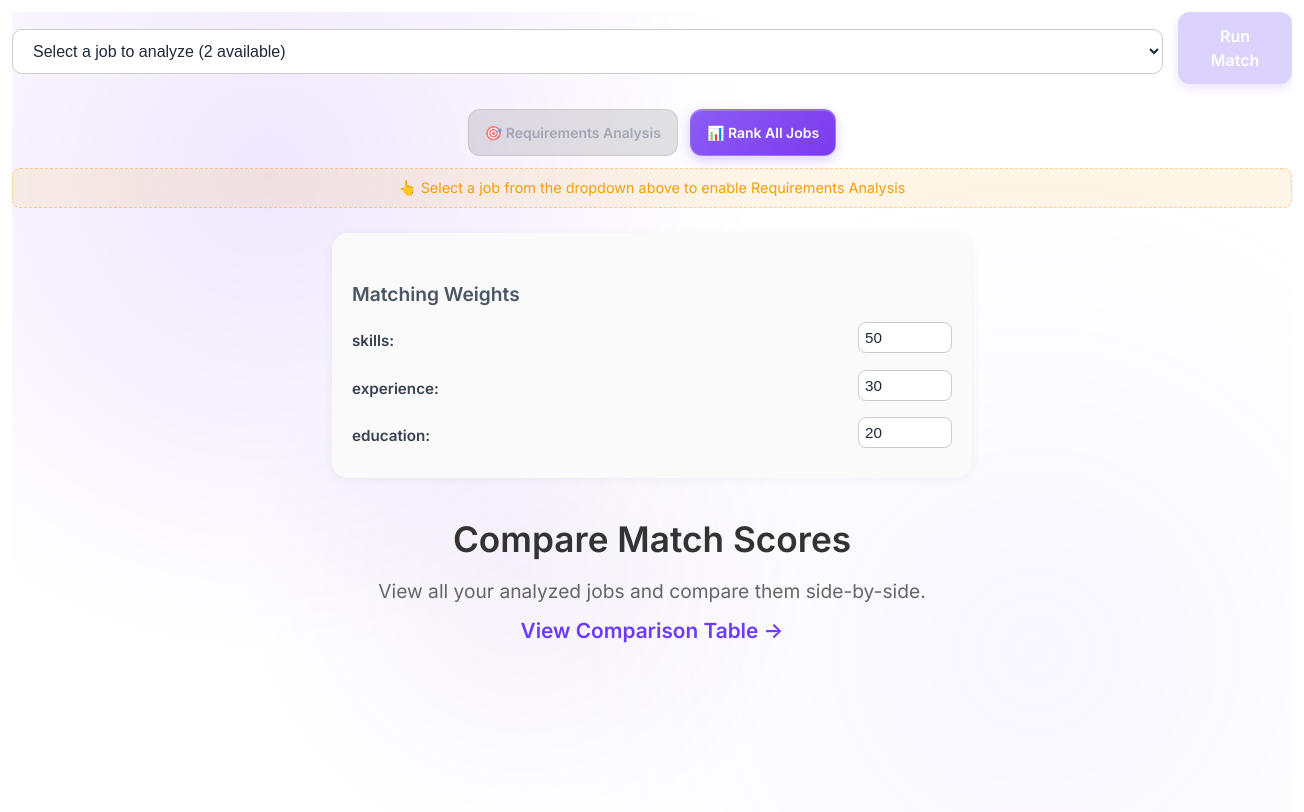
Test: MatchAnalysisTab › shows loading state while analyzing
Select "Software Engineer — Tech Corp" in the dropdown: (588, 51) [12,29,1163,74]
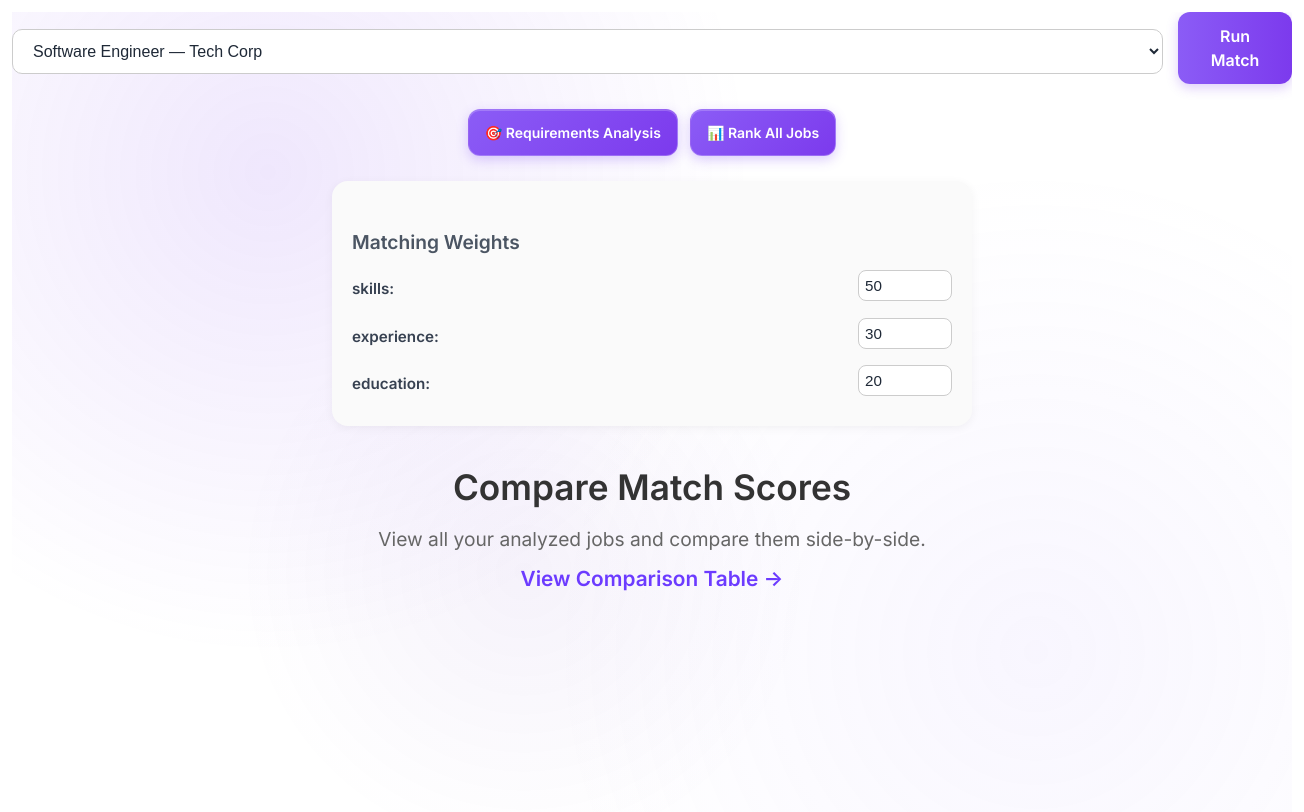
Click the button "Run Match": (1235, 48) [1178,12,1292,84]
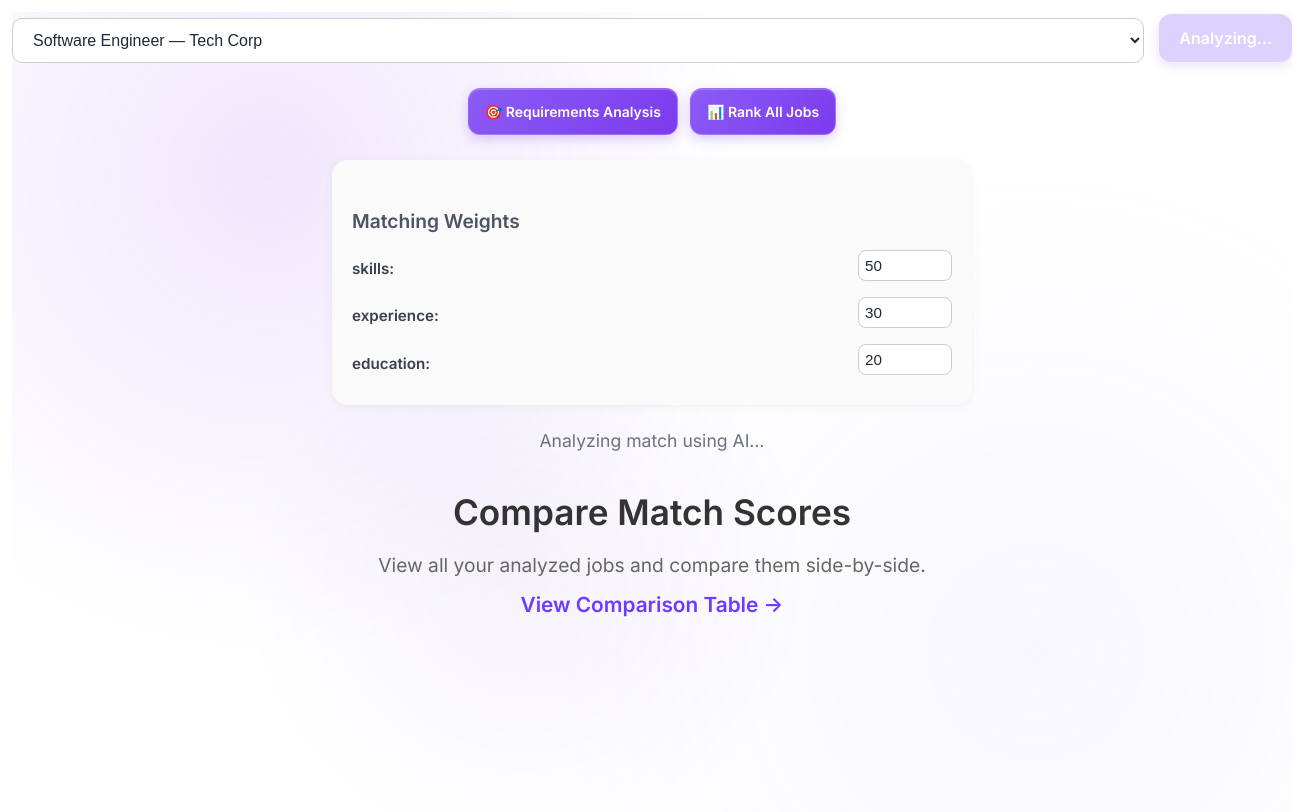
Expected: the button "Analyzing…" is shown, [1159,14,1292,62]
Expected: the text "Analyzing match using AI…" is shown, [539,430,765,451]
